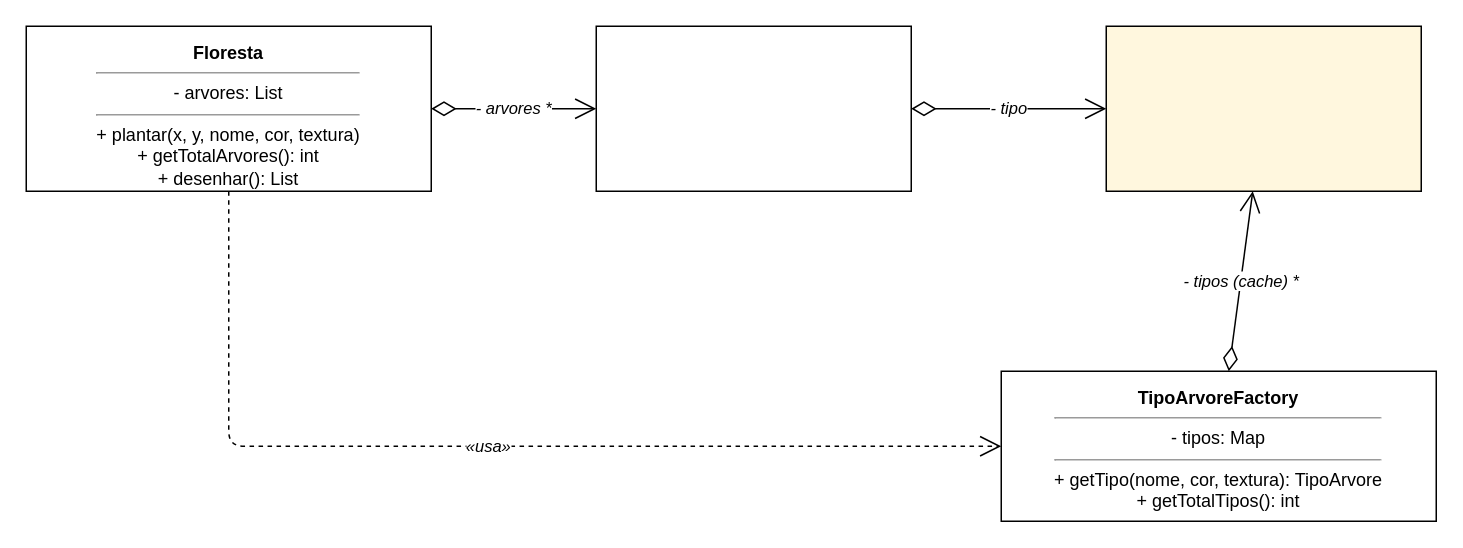
This 1463x548 diagram has some shape labels left out. Here are the shapes that lost their labels. From the top down, the centre of each, then its label:
(x=753, y=108): Arvore - x: int - y: int - tipo: TipoArvore + desenhar(): String
(x=1263, y=108): TipoArvore - nome: String - cor: String - textura: String (estado compartilhado)
